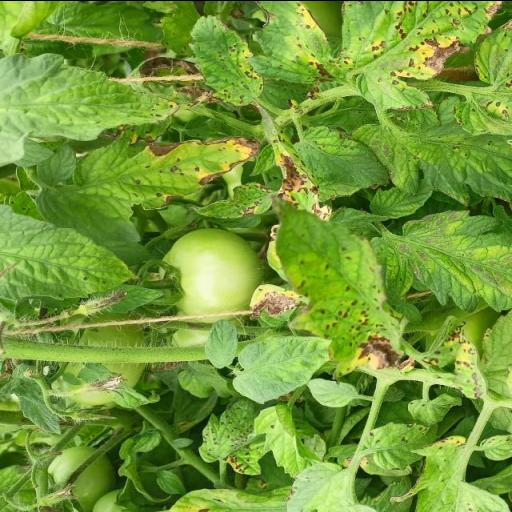disease_tomato: (266, 192, 412, 382), (25, 134, 267, 246), (340, 0, 508, 112), (183, 12, 271, 108), (248, 0, 338, 88), (291, 122, 391, 190), (248, 280, 306, 318)
